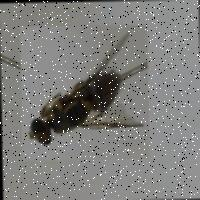Oriental-fruit-fly: (19, 24, 148, 160)
